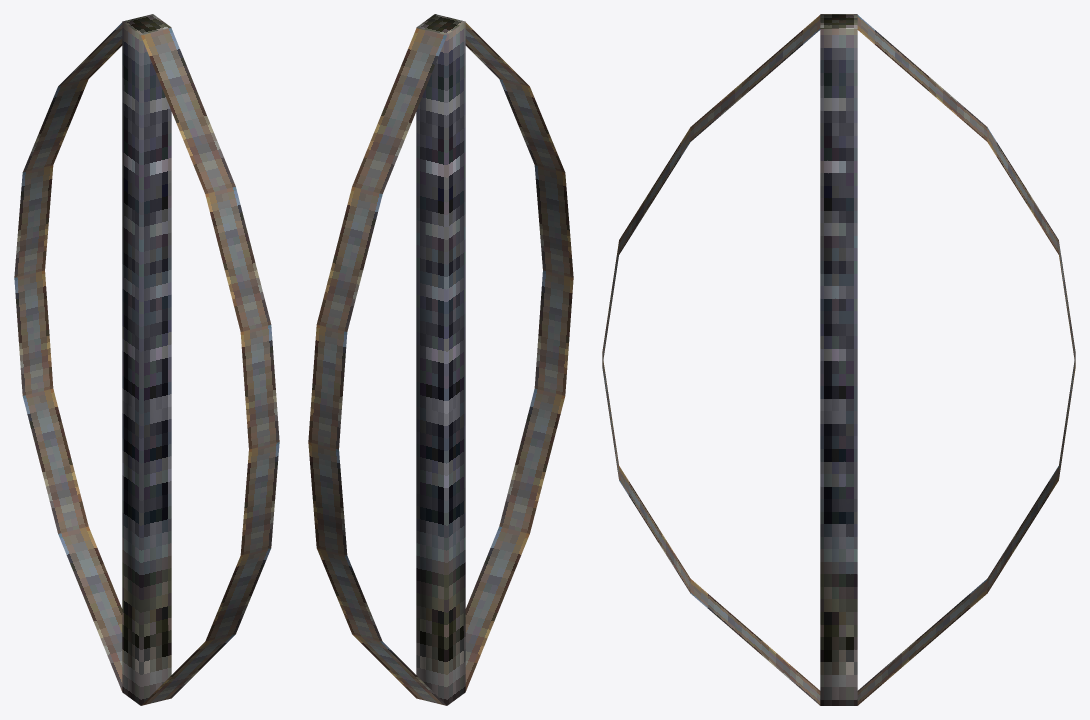
3 views of the same model, side by side, from view 1: azimuth 30°, elevation 25°; view 2: azimuth 150°, elevation 25°; view 3: azimuth 270°, elevation 25° (orthographic).
Visible parts, largest first — view 1: Slim_obj_062; view 2: Slim_obj_062; view 3: Slim_obj_062.
Part boxes in pixels (bbox=[...]): Slim_obj_062: bbox=[14, 14, 279, 705]; Slim_obj_062: bbox=[308, 14, 573, 705]; Slim_obj_062: bbox=[602, 14, 1075, 705].
Bounding box in the file's own units: 0.0957 × 2 × 1.27.
1 material, 1 textured.
